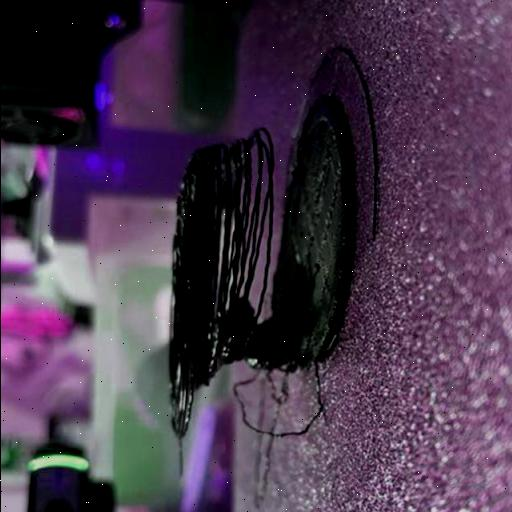spaghetti: (214, 126, 272, 360), (228, 360, 322, 438), (176, 436, 186, 480)
